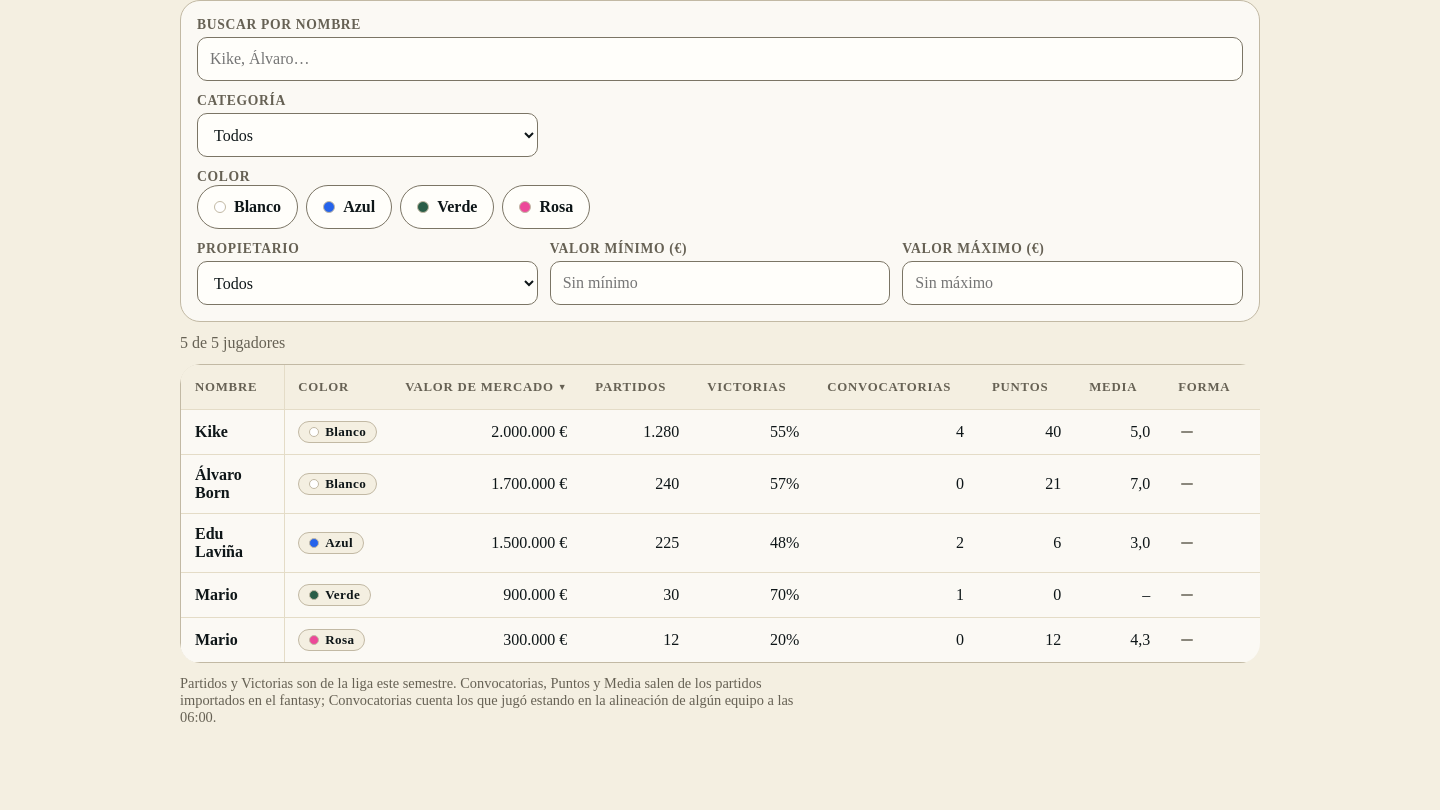
Test: PlayersTable › sorting by the new columns, biggest first on the first click
Later steps or results of the test are not shown.
Click the button "Convocatorias".
click(896, 387)  # box [813,365,978,409]
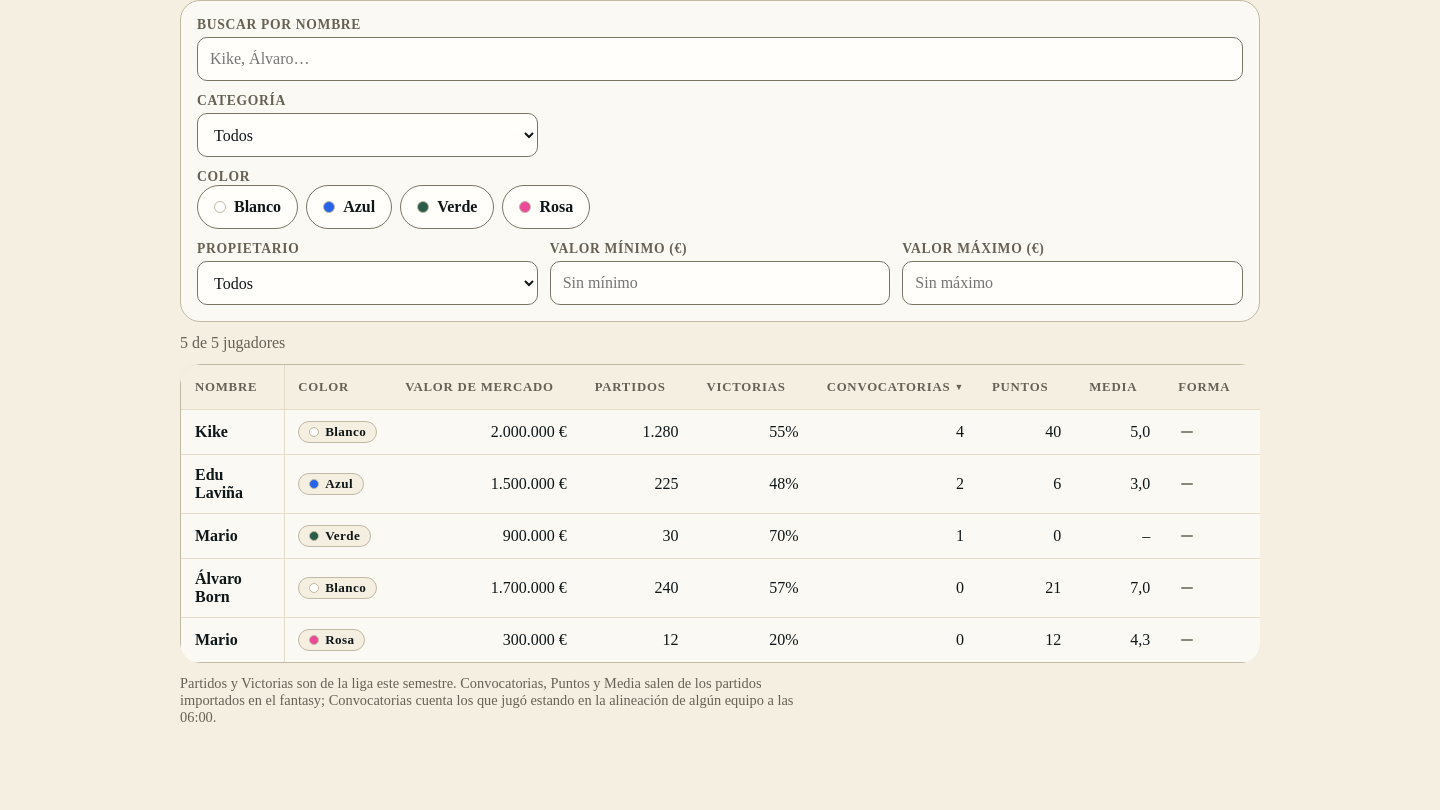
Check: the column heading "Convocatorias ▼" has attribute aria-sort="descending", box [813,365,978,410]
